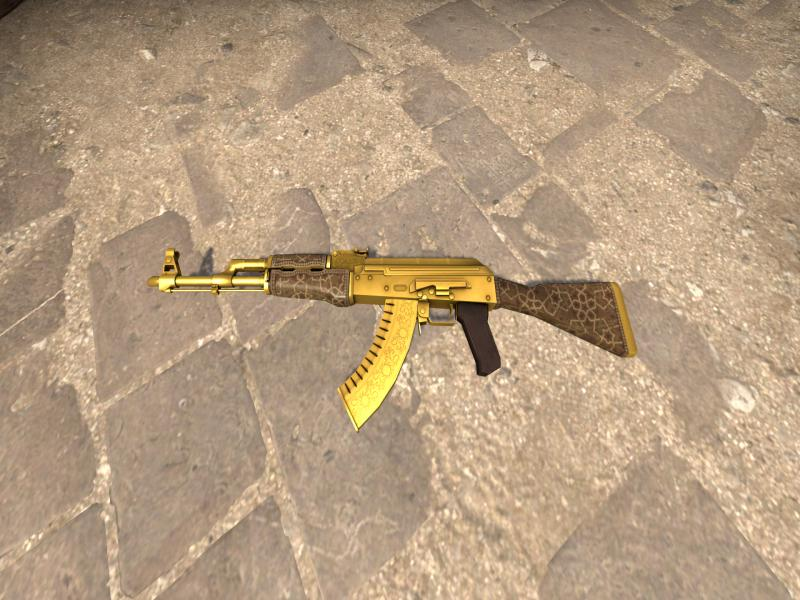AK47: (147, 247, 638, 431)
